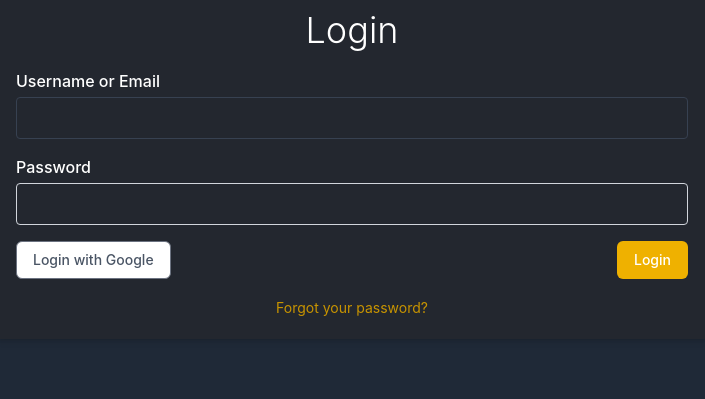
Login › google login error display
What coordinates should you click on to do the following:
click the button with test id "google-login-button"
I would click on:
 (93, 260)
Its box is x1=16 y1=241 x2=171 y2=279.
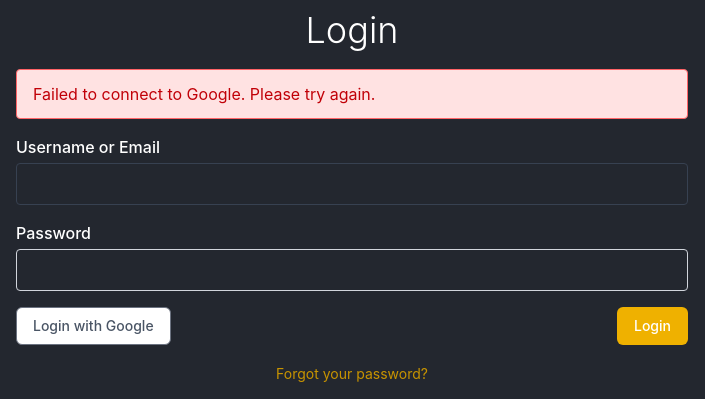
expect the text "Failed to connect to Google. Please try again." is shown: met, box x1=33 y1=84 x2=375 y2=104
